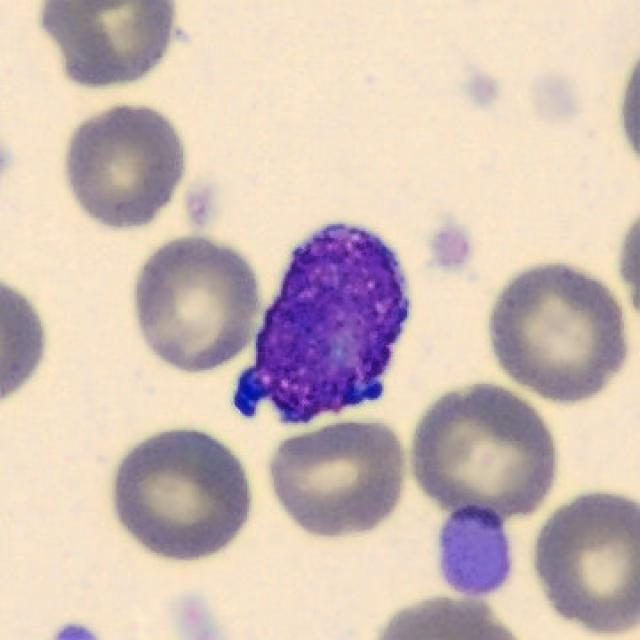Linfocito: (233, 224, 411, 425)
